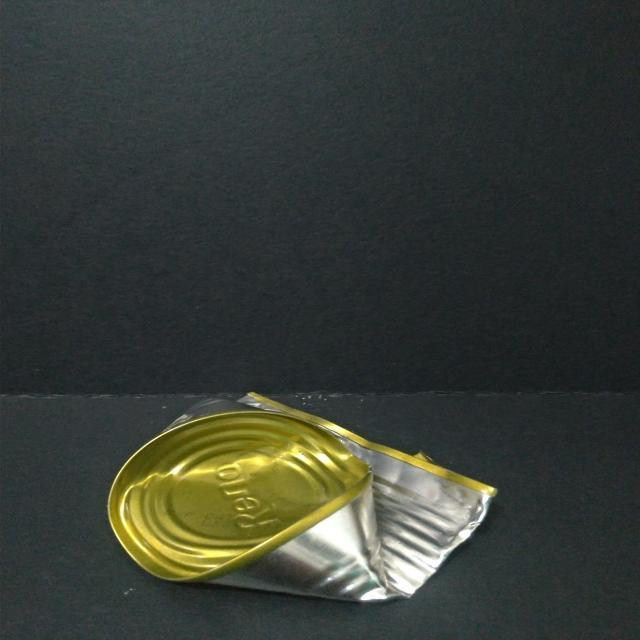metal-can: (104, 388, 498, 612)
